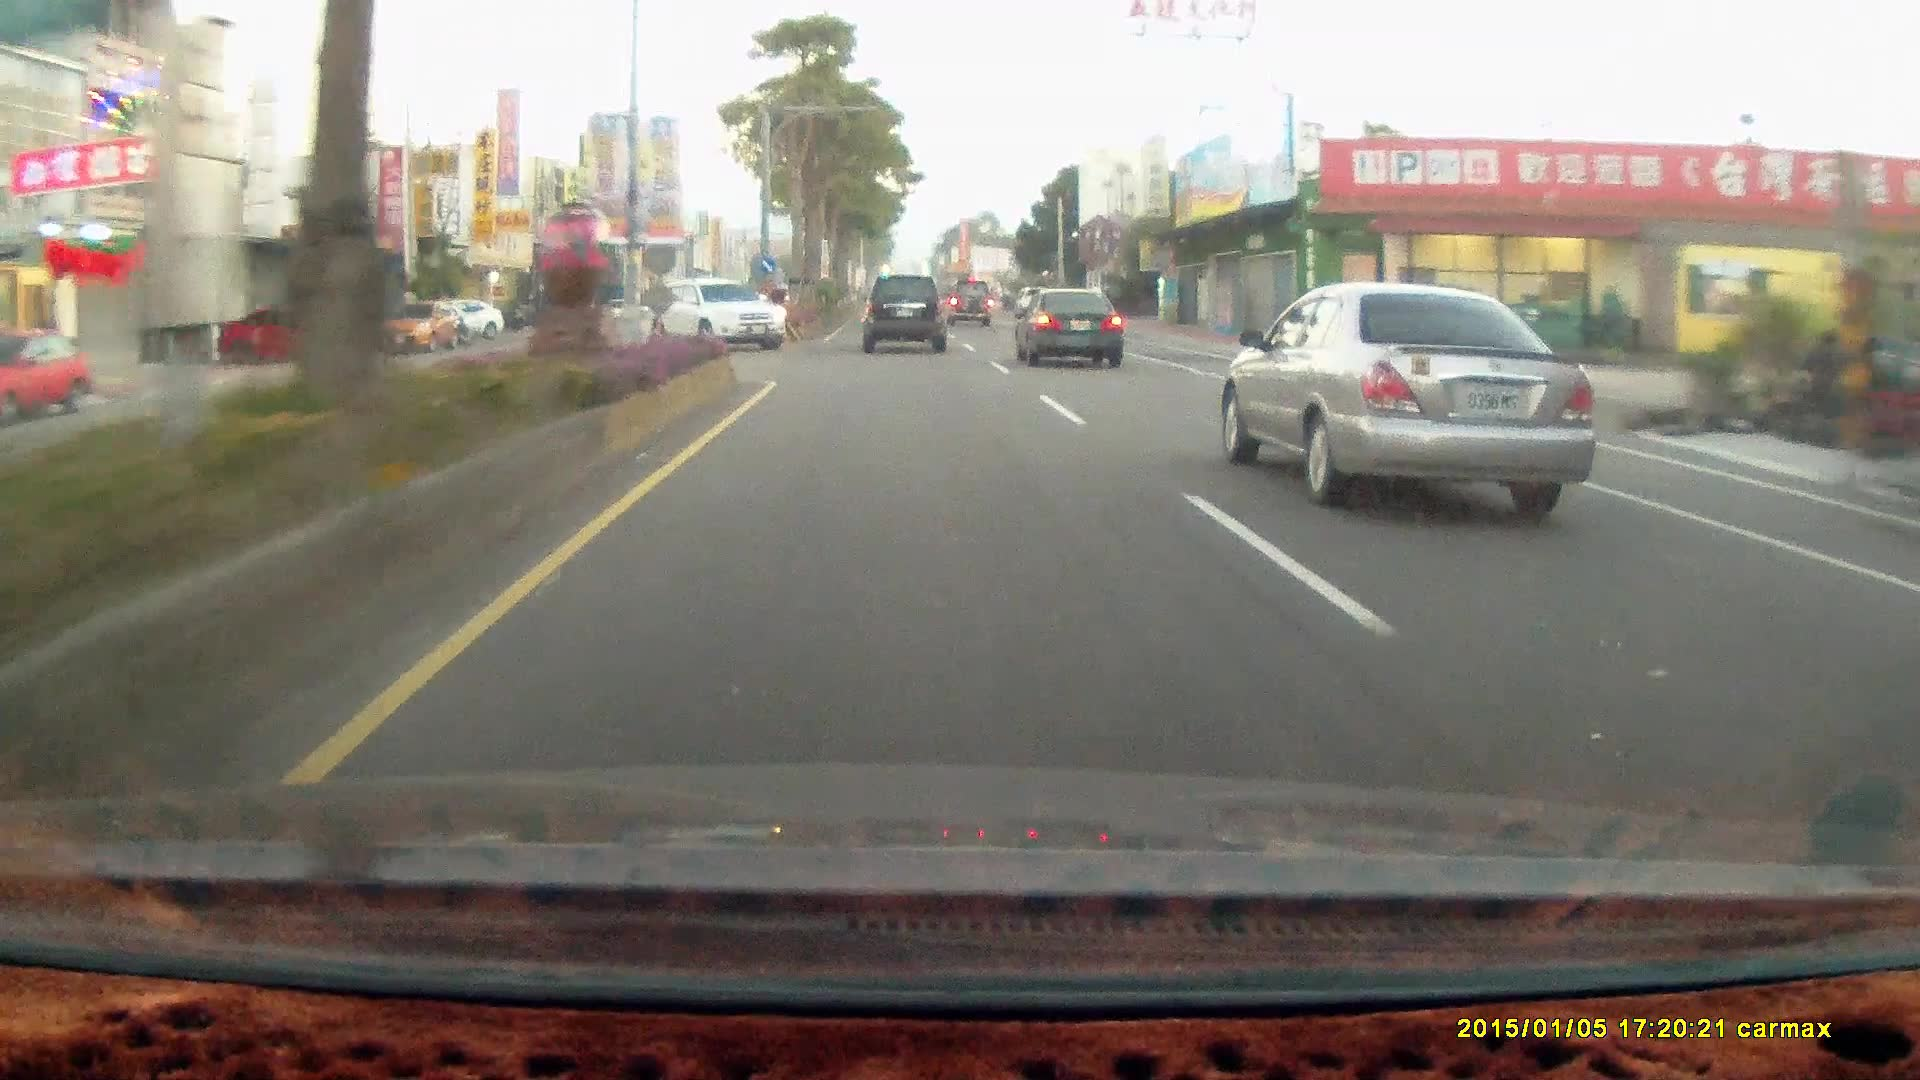vehicle: (1212, 282, 1610, 529), (645, 280, 787, 353), (1013, 287, 1130, 375), (211, 310, 380, 368), (216, 307, 377, 367), (667, 280, 793, 353), (1011, 284, 1124, 365), (1, 328, 96, 423), (861, 278, 953, 356), (861, 273, 944, 351), (367, 297, 464, 353), (373, 301, 462, 352), (425, 301, 505, 342), (944, 280, 996, 328)
